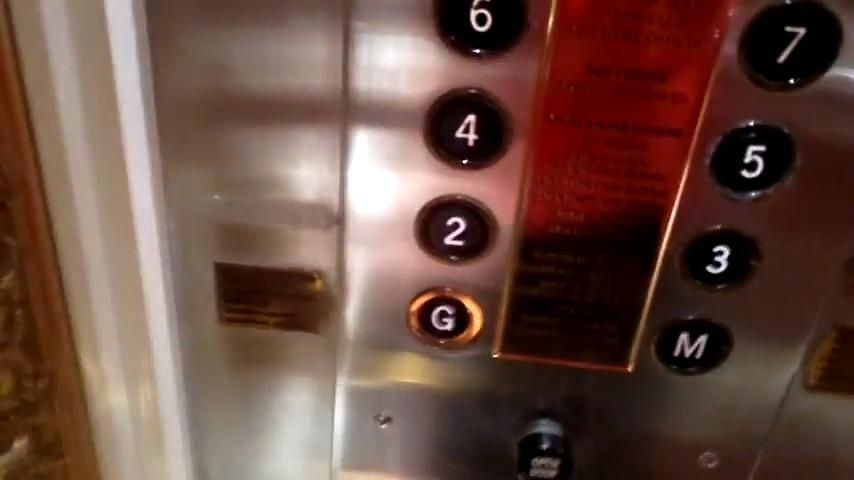2: (411, 190, 502, 269)
3: (682, 226, 761, 290)
4: (419, 81, 519, 175)
5: (706, 119, 801, 201)
7: (735, 1, 845, 93)
G: (405, 282, 486, 353)
M: (653, 316, 732, 376)
text_blur: (514, 420, 573, 480)
